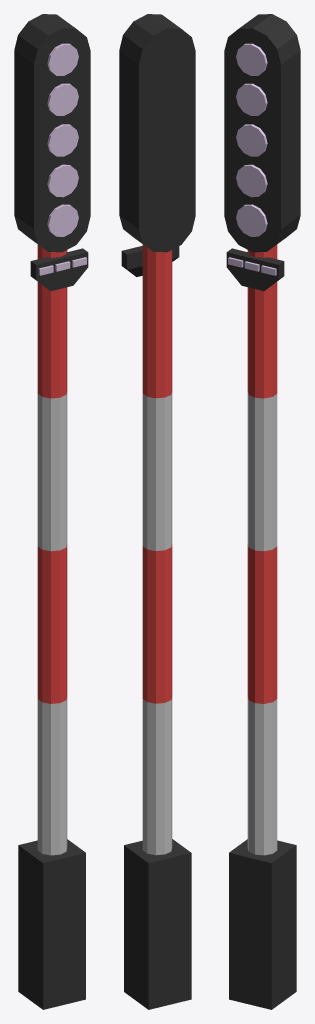
File: SemaforPolautomatyczny.fbx
3 views of the same model, side by side, from view 1: azimuth 30°, elevation 25°; view 2: azimuth 210°, elevation 25°; view 3: azimuth 330°, elevation 25° (orthographic).
Parts seen in each view (by area): view 1: Pole, Light3, Light4, Light5, Light2, Light1, LightLine; view 2: Pole; view 3: Pole, Light3, Light4, Light5, Light2, Light1, LightLine.
Boxes of the visible parts, box(x1,y1,x2,y2) form: Pole: box(14, 14, 90, 1009); Light3: box(47, 124, 78, 156); Light4: box(47, 164, 78, 197); Light5: box(47, 204, 78, 236); Light2: box(47, 83, 78, 115); Light1: box(47, 43, 78, 75); LightLine: box(38, 257, 86, 275); Pole: box(119, 14, 195, 1009); Pole: box(224, 14, 300, 1009); Light3: box(236, 124, 267, 156); Light4: box(236, 164, 267, 197); Light5: box(236, 204, 267, 236); Light2: box(236, 83, 267, 115); Light1: box(236, 43, 267, 75); LightLine: box(228, 257, 276, 275).
Size of the model in its own units: 45.21 by 740 by 34.1.
